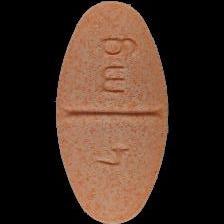67253-382: (0, 0, 224, 224)
